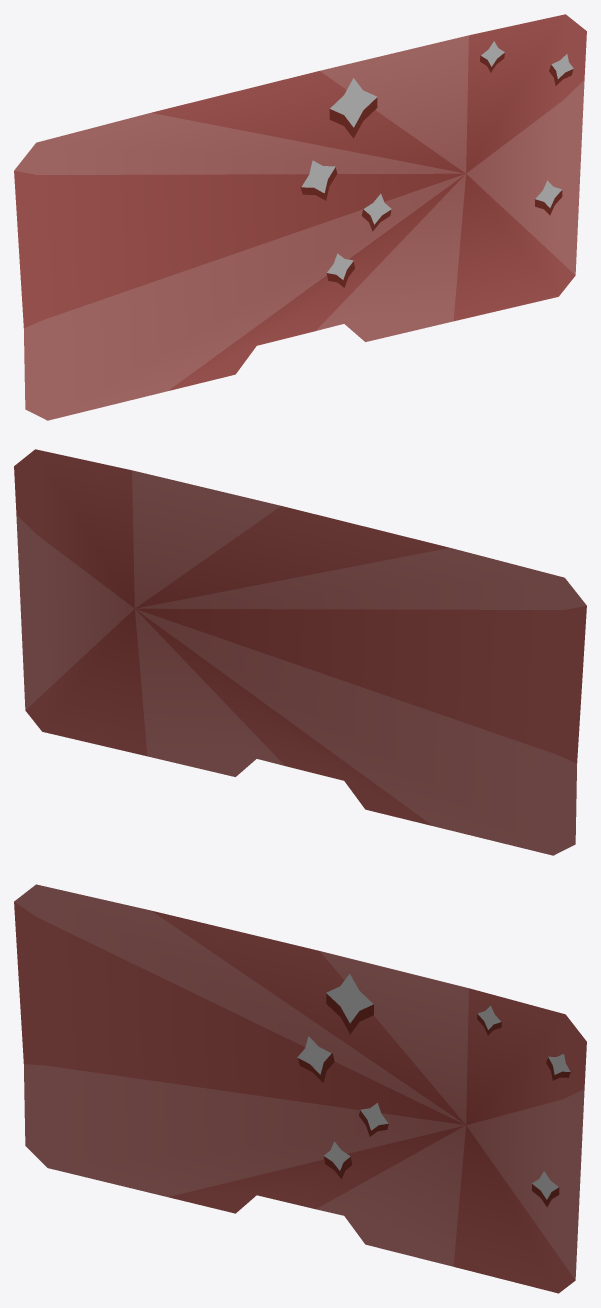
Rendered from ScoreScreenRed.glb.
3 renders of one model, top to bottom at view 1: azimuth 30°, elevation 25°; view 2: azimuth 150°, elevation 25°; view 3: azimuth 330°, elevation 25°, orthographic.
Visible parts, largest first — view 1: ScoreScreenRed; view 2: ScoreScreenRed; view 3: ScoreScreenRed.
Boxes of the visible parts, x1,y1,x2,y2 form: ScoreScreenRed: [14, 14, 586, 420]; ScoreScreenRed: [14, 449, 586, 855]; ScoreScreenRed: [14, 884, 586, 1293].
Bounding box in the file's own units: 2.24 × 1.06 × 0.0141.
